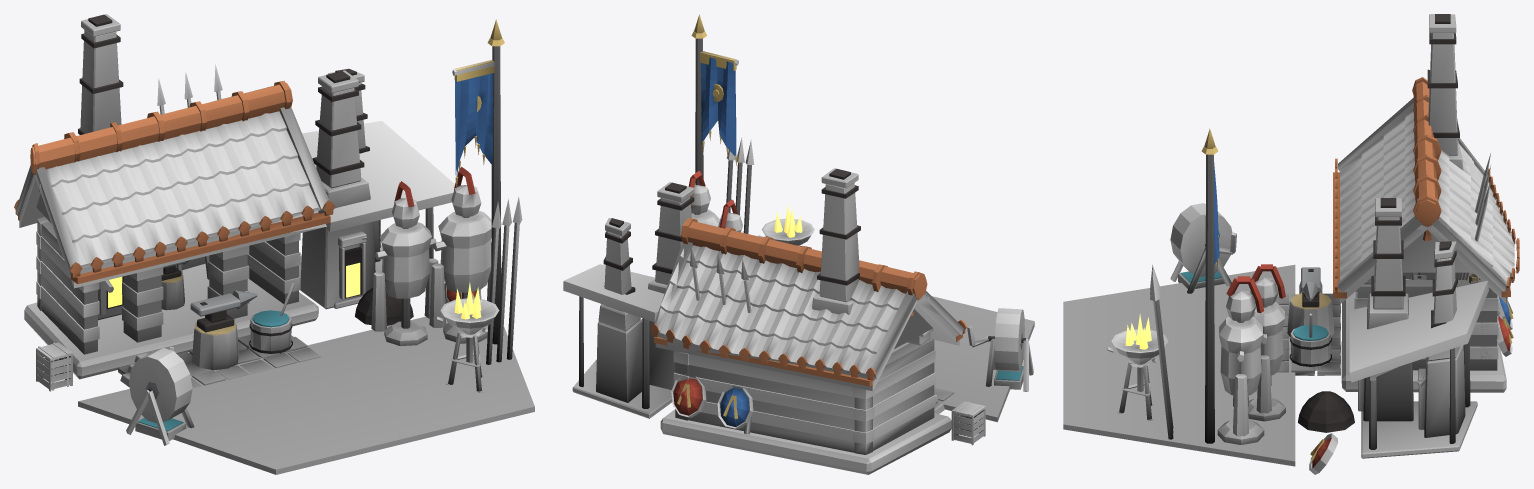
Rendered from forge-l2.glb.
3 views of the same model, side by side, from view 1: azimuth 30°, elevation 25°; view 2: azimuth 150°, elevation 25°; view 3: azimuth 270°, elevation 25° (orthographic). The views are drawn at different scales.
Visible parts, largest first — view 1: forge-l2; view 2: forge-l2; view 3: forge-l2.
Boxes of the visible parts, x1,y1,x2,y2 form: forge-l2: (14, 14, 534, 474); forge-l2: (563, 14, 1034, 474); forge-l2: (1063, 14, 1519, 474).
Bounding box in the file's own units: 1.37 × 1.06 × 1.32.
